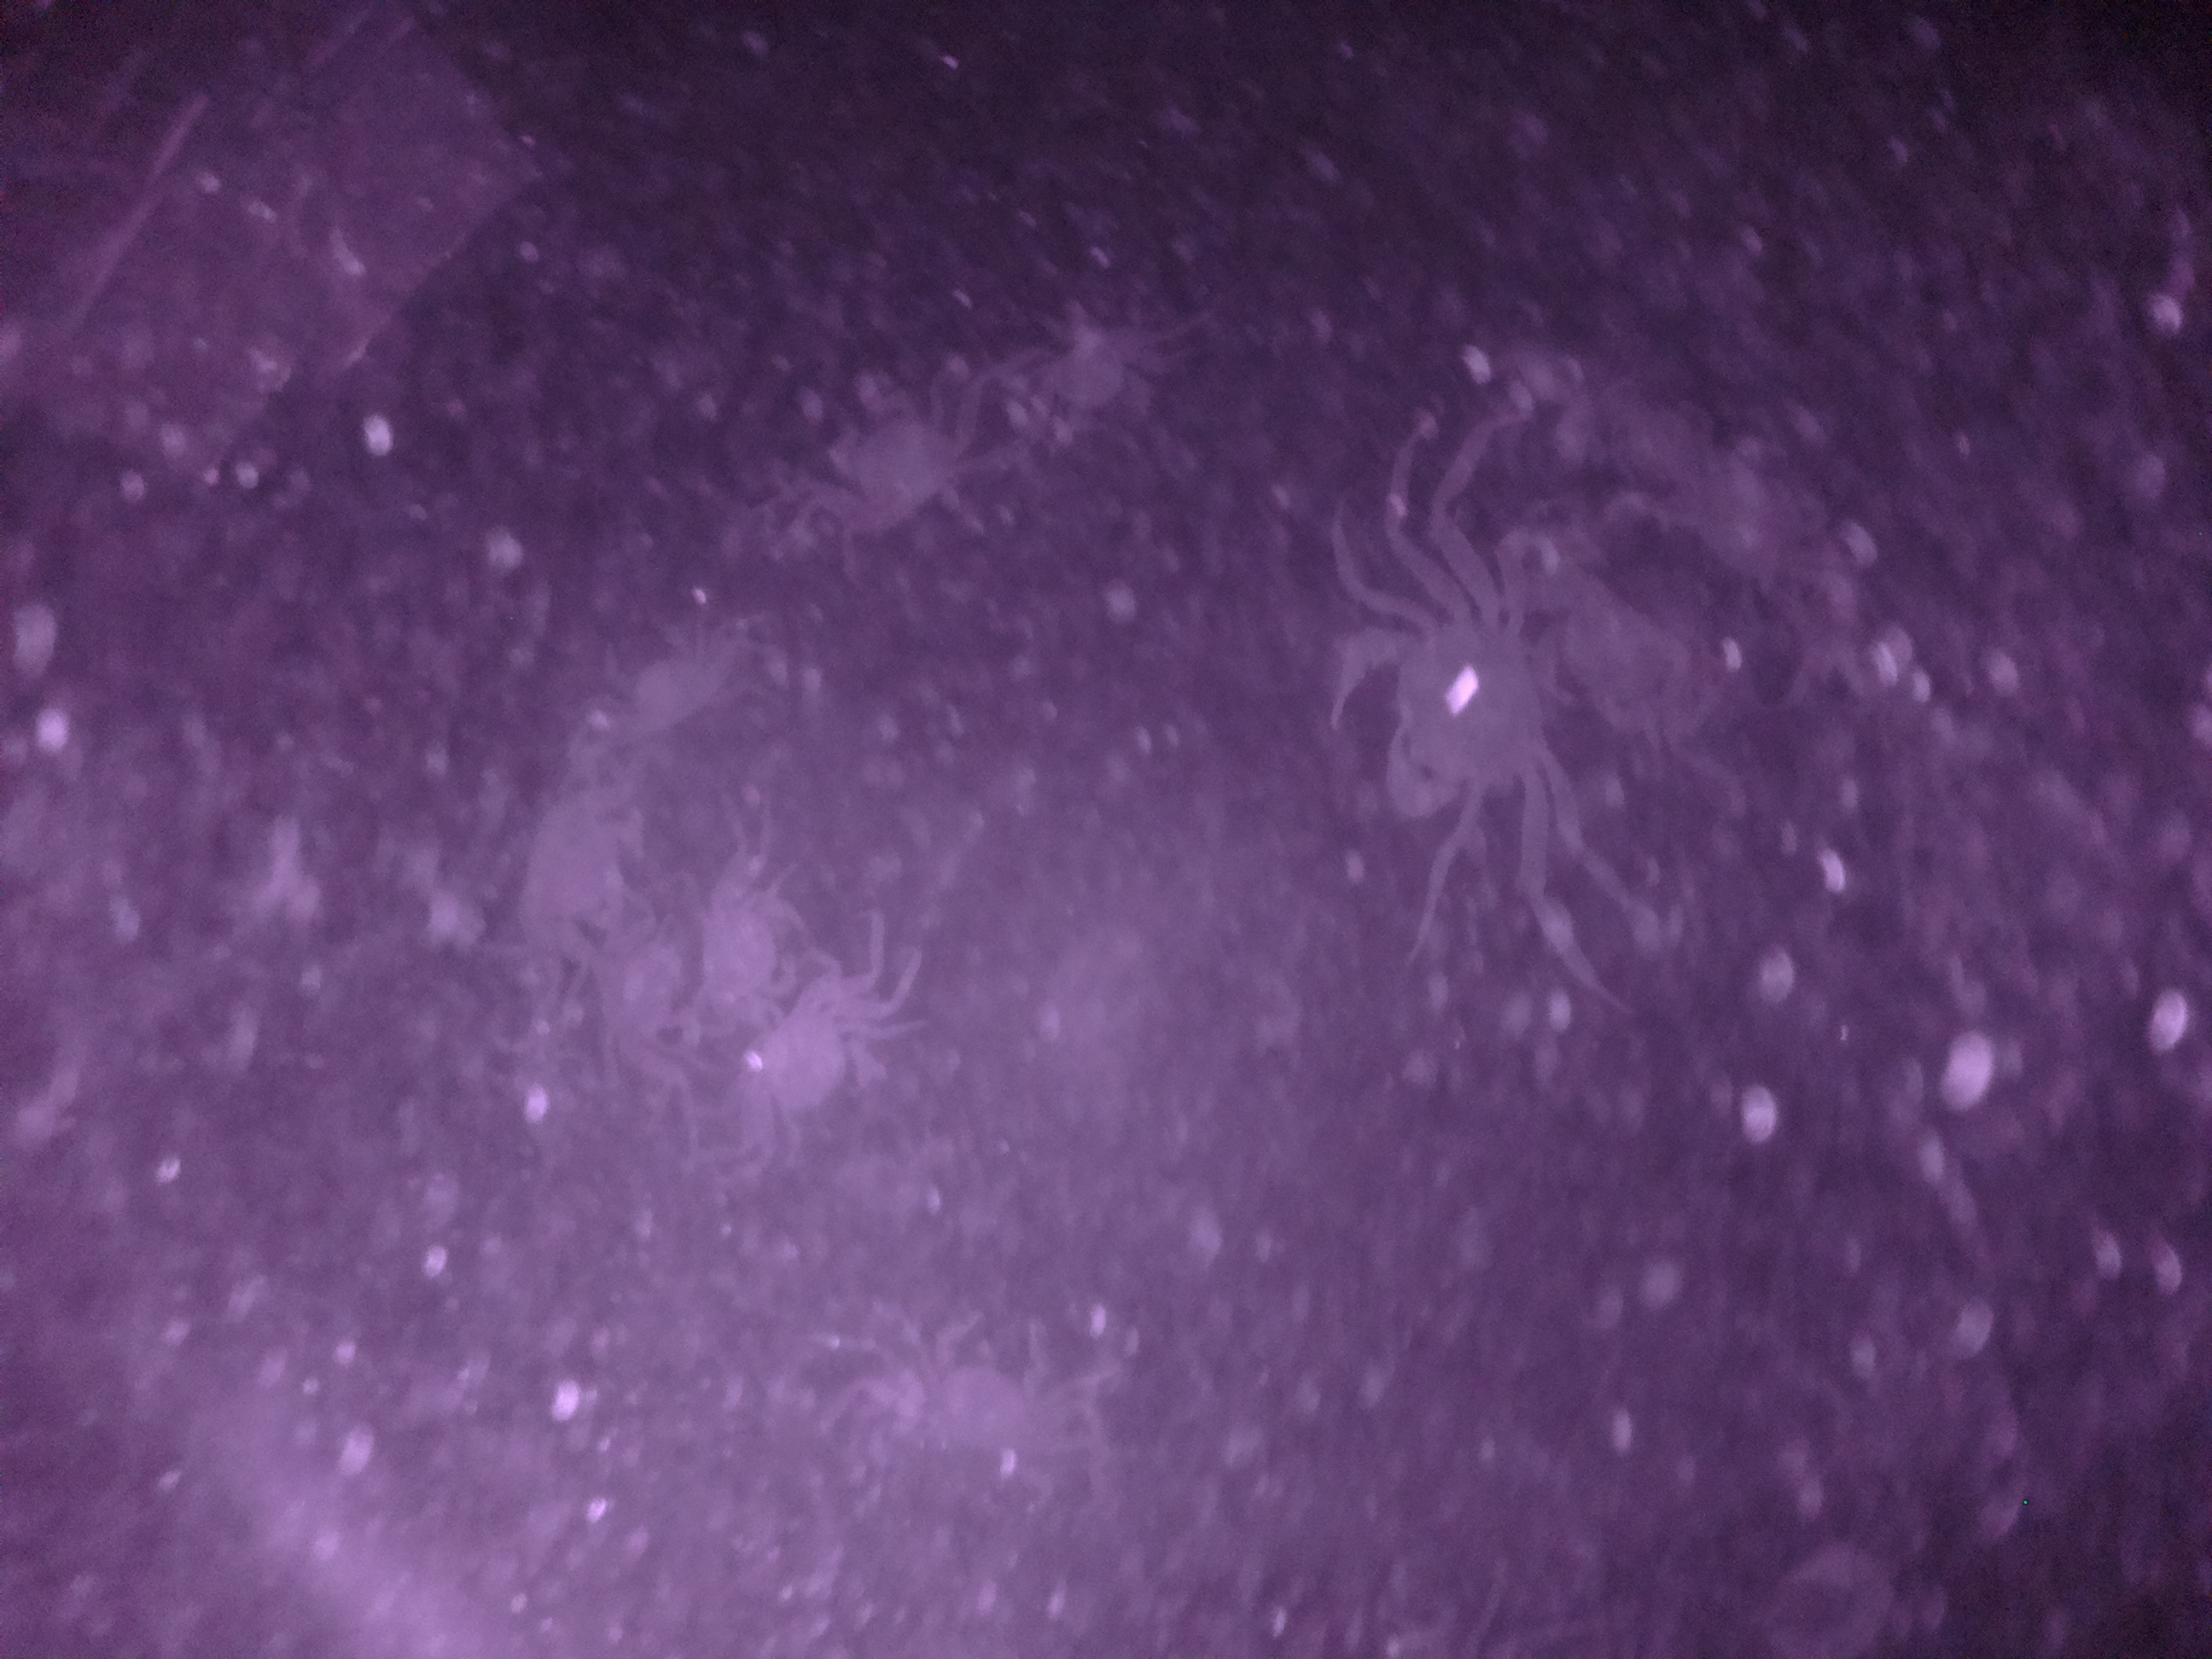Crab: (1318, 549, 1580, 838), (711, 939, 906, 1168)
